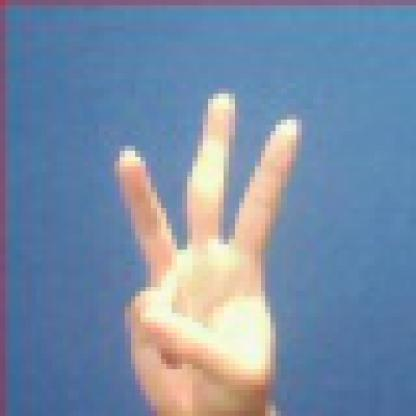three: (88, 88, 326, 415)
